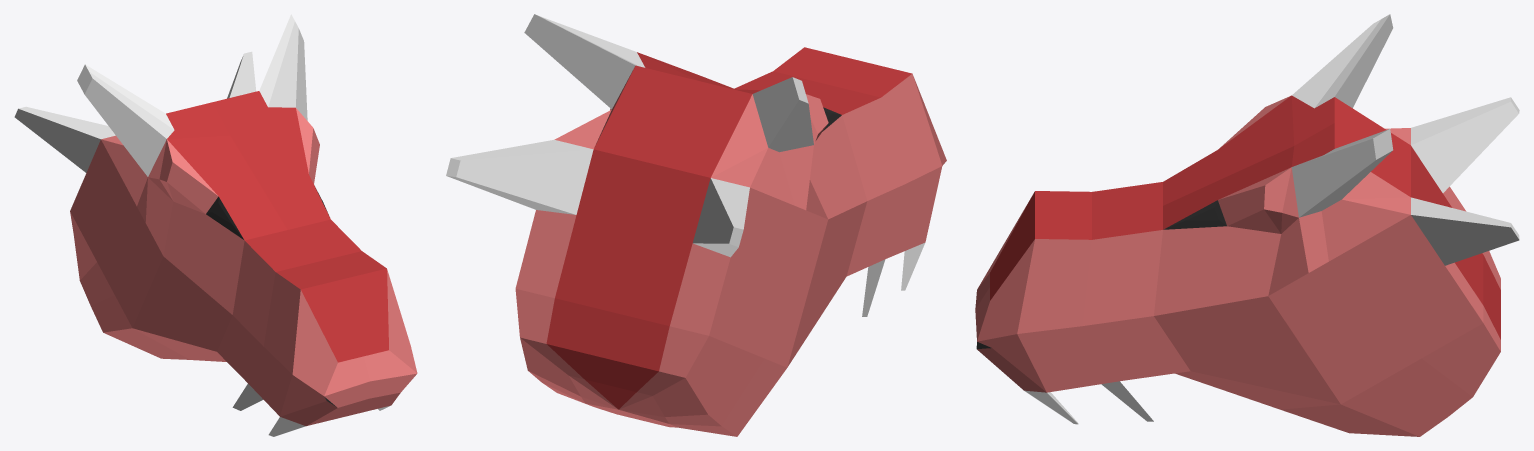
The model's file is DragonHeadRed.fbx.
3 renders of one model, left to right at view 1: azimuth 30°, elevation 25°; view 2: azimuth 150°, elevation 25°; view 3: azimuth 270°, elevation 25°, orthographic. The views are drawn at different scales.
Visible parts, largest first — view 1: DragonHeadRed; view 2: DragonHeadRed; view 3: DragonHeadRed.
Part boxes in pixels (left/top/right/bottom): DragonHeadRed: left=14, top=14, right=417, bottom=436; DragonHeadRed: left=446, top=14, right=946, bottom=436; DragonHeadRed: left=975, top=14, right=1519, bottom=436.
Size of the model in its own units: 229 by 276 by 404.
Materials: 1 (1 with a texture image).
